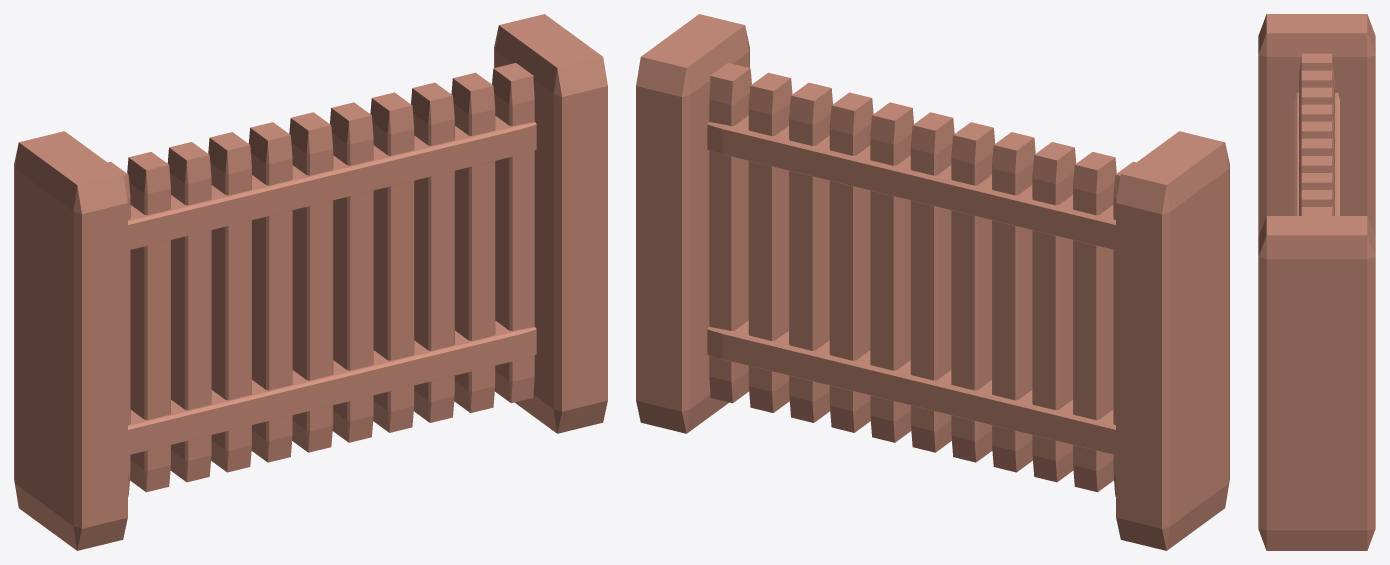
Rendered from b19_brick_pier_garden_gate.glb.
3 renders of one model, left to right at view 1: azimuth 30°, elevation 25°; view 2: azimuth 150°, elevation 25°; view 3: azimuth 270°, elevation 25°, orthographic. The views are drawn at different scales.
Parts seen in each view (by area): view 1: b19_brick_pier_garden_gate; view 2: b19_brick_pier_garden_gate; view 3: b19_brick_pier_garden_gate.
Boxes of the visible parts, box(x1,y1,x2,y2) form: b19_brick_pier_garden_gate: box(14, 14, 607, 550); b19_brick_pier_garden_gate: box(636, 14, 1229, 550); b19_brick_pier_garden_gate: box(1258, 14, 1375, 550).
Bounding box in the file's own units: 2.4 × 1.57 × 0.53.
